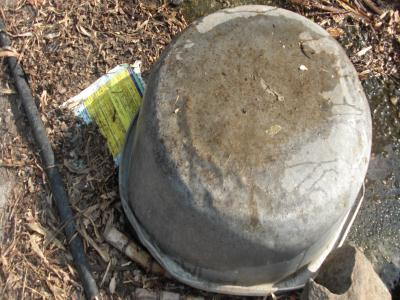bowl: (114, 2, 377, 299)
